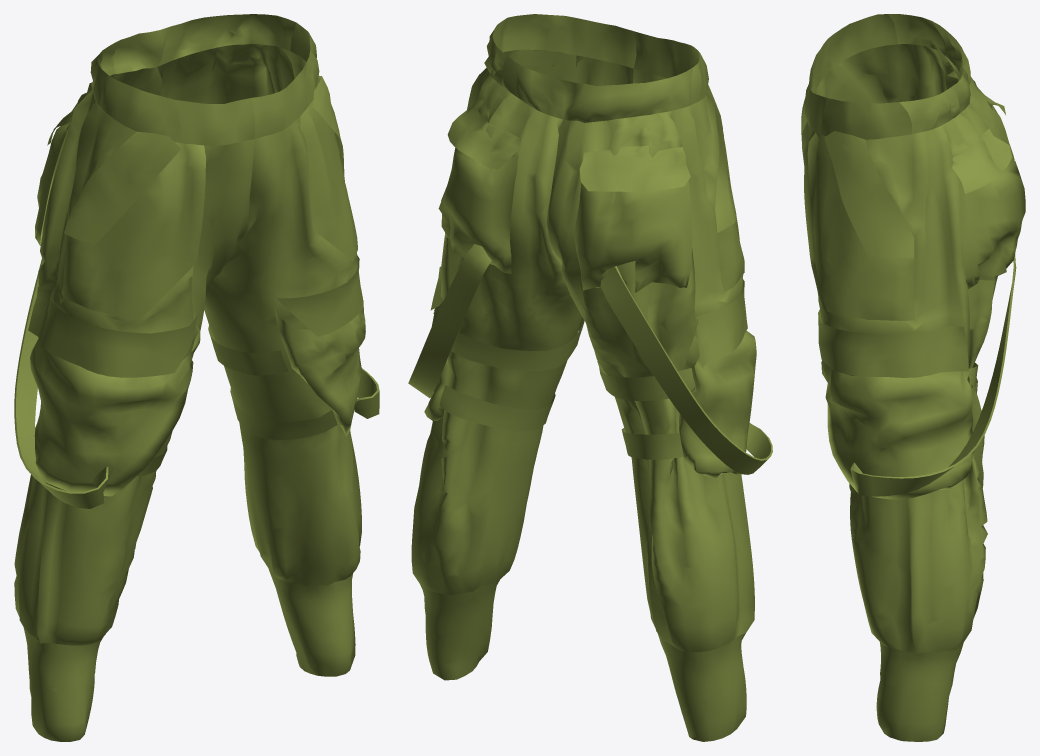
3 views of the same model, side by side, from view 1: azimuth 30°, elevation 25°; view 2: azimuth 150°, elevation 25°; view 3: azimuth 270°, elevation 25° (orthographic). The views are drawn at different scales.
Parts seen in each view (by area): view 1: techtrousers2; view 2: techtrousers2; view 3: techtrousers2.
Boxes of the visible parts, x1=… form: techtrousers2: x1=14, y1=14, x2=379, y2=741; techtrousers2: x1=408, y1=14, x2=772, y2=741; techtrousers2: x1=801, y1=14, x2=1025, y2=741.
Bounding box in the file's own units: 1.09 × 2 × 0.6588.
